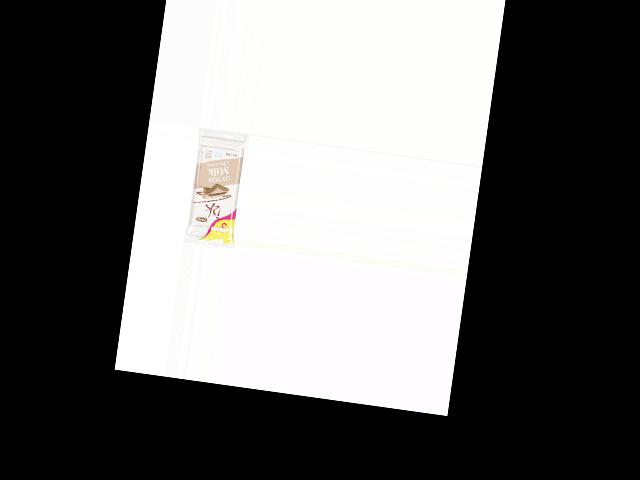chocolate: (182, 137, 247, 249)
